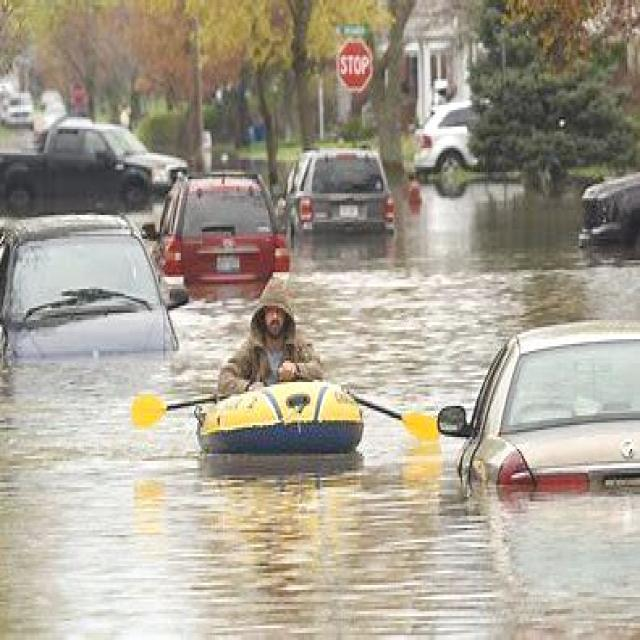water: (2, 300, 639, 639), (285, 175, 635, 419)
